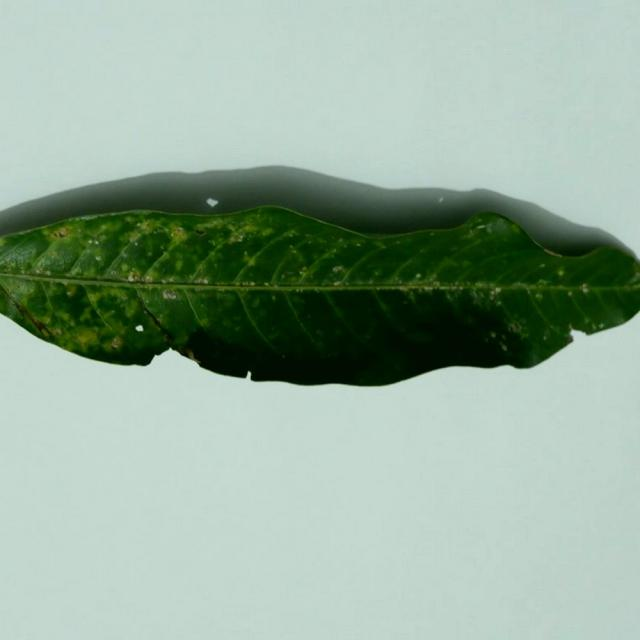Mango: (0, 205, 639, 385)
Powdery_Mildew: (136, 296, 177, 348), (128, 283, 189, 314), (474, 215, 517, 238), (69, 324, 107, 350), (2, 282, 26, 320), (469, 288, 503, 306), (340, 277, 396, 286), (278, 262, 305, 280), (183, 347, 202, 364), (170, 228, 188, 243), (541, 247, 562, 257), (126, 301, 138, 318), (51, 227, 69, 238), (33, 318, 46, 332), (172, 259, 185, 273), (127, 230, 142, 241), (625, 273, 638, 285), (128, 270, 142, 281), (171, 227, 186, 237), (138, 220, 153, 230), (162, 289, 177, 299), (575, 327, 590, 336), (111, 337, 122, 349), (508, 323, 521, 333), (564, 333, 574, 345), (78, 214, 96, 220), (230, 234, 243, 242), (194, 229, 207, 237), (66, 286, 76, 296), (490, 286, 501, 295), (251, 298, 260, 309), (195, 277, 208, 284), (332, 265, 343, 273), (87, 239, 99, 246), (165, 276, 179, 282), (135, 324, 144, 332), (634, 272, 640, 283), (539, 279, 550, 285), (557, 268, 565, 276), (581, 284, 589, 292), (500, 343, 508, 351), (18, 267, 27, 274), (543, 331, 550, 340), (476, 224, 486, 230), (246, 370, 252, 380), (54, 328, 62, 335), (535, 292, 543, 299), (434, 280, 442, 287), (590, 322, 598, 329), (489, 331, 496, 338), (316, 329, 323, 336), (375, 270, 382, 277), (110, 270, 118, 276), (294, 287, 303, 292), (35, 268, 42, 274), (301, 266, 308, 272), (145, 276, 152, 282), (414, 273, 421, 279), (568, 325, 574, 332), (280, 274, 287, 280), (486, 226, 492, 233), (540, 263, 547, 269), (333, 280, 341, 285), (567, 290, 573, 296), (136, 222, 143, 227), (265, 281, 272, 286), (598, 323, 605, 328), (45, 270, 51, 275), (244, 250, 249, 256), (161, 278, 167, 283), (272, 295, 277, 301), (338, 239, 344, 244), (403, 299, 408, 305), (96, 255, 101, 260), (250, 281, 255, 286), (292, 250, 297, 255), (355, 243, 361, 247), (289, 245, 294, 249), (430, 232, 435, 236), (282, 354, 286, 359), (134, 242, 138, 246)
